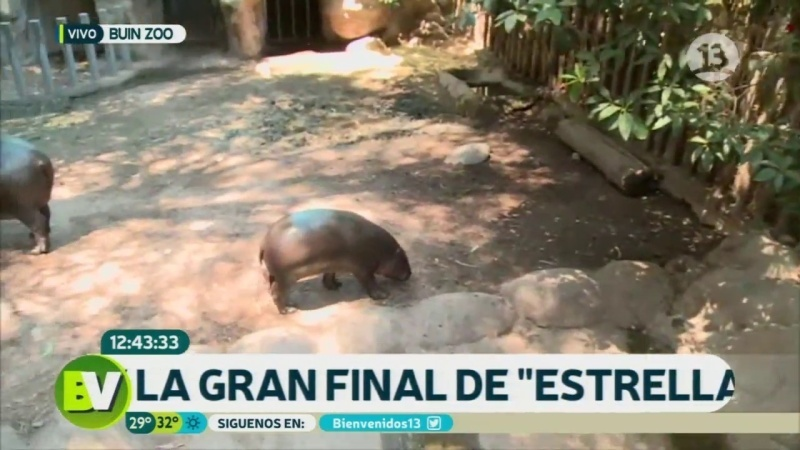hipopotamo: (242, 199, 416, 316)
